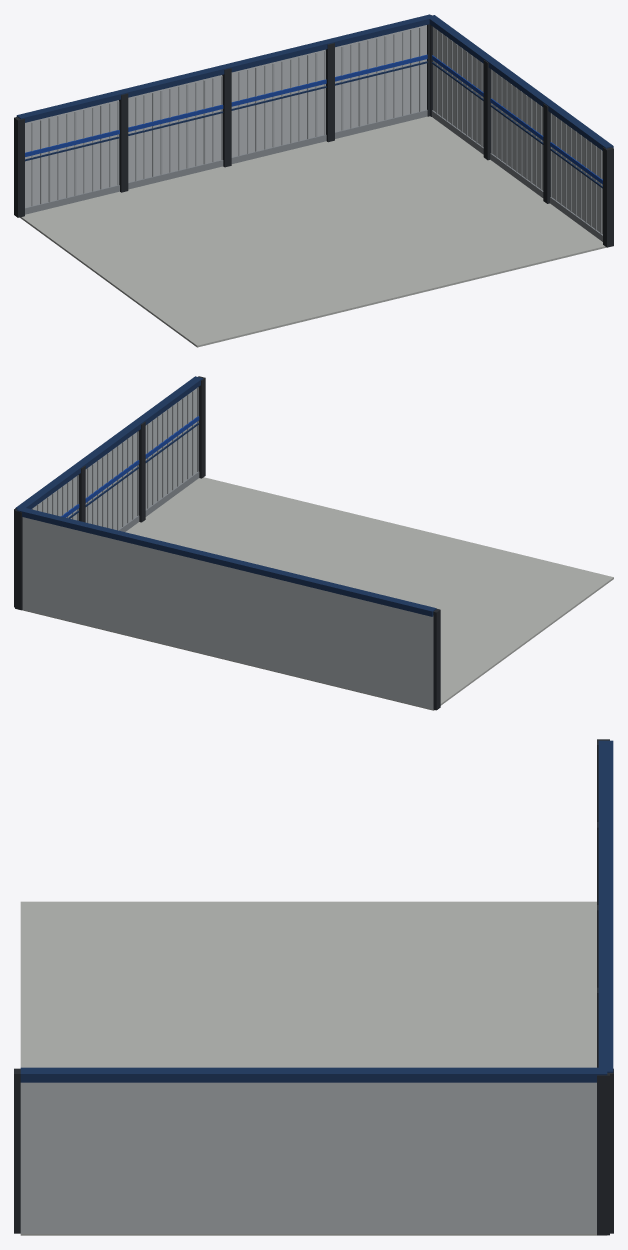
The model's file is Warehouse shell.glb.
The picture shows the model from 3 angles, top to bottom: view 1: azimuth 30°, elevation 25°; view 2: azimuth 150°, elevation 25°; view 3: azimuth 270°, elevation 25°; orthographic projection. The views are drawn at different scales.
Parts seen in each view (by area): view 1: Asset; view 2: Asset; view 3: Asset.
Part boxes in pixels (<box>): Asset: <box>14,14,613,347</box>; Asset: <box>14,376,613,710</box>; Asset: <box>14,739,613,1235</box>.
Size of the model in its own units: 24.4 by 5.55 by 18.4.
